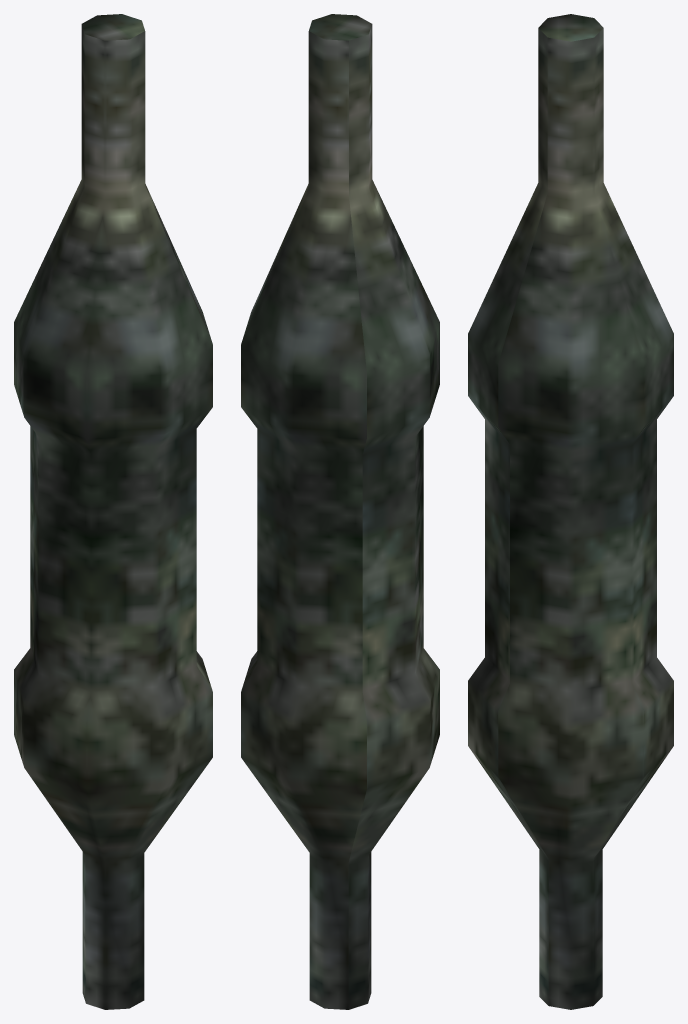
Rendered from MetalCyl.glb.
3 renders of one model, left to right at view 1: azimuth 30°, elevation 25°; view 2: azimuth 150°, elevation 25°; view 3: azimuth 270°, elevation 25°, orthographic.
Parts seen in each view (by area): view 1: Cylinder; view 2: Cylinder; view 3: Cylinder.
Boxes of the visible parts, x1,y1,x2,y2 form: Cylinder: [14, 14, 212, 1009]; Cylinder: [241, 14, 439, 1009]; Cylinder: [468, 14, 673, 1009].
Bounding box in the file's own units: 2 × 10.39 × 2.
1 material, 1 textured.
